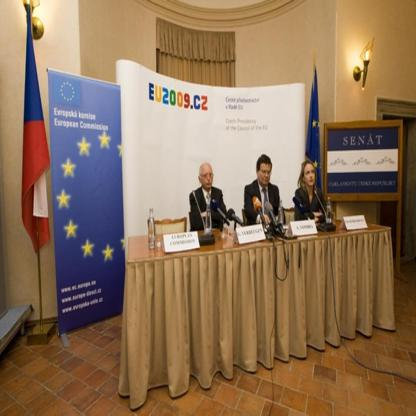face: (202, 166, 215, 189), (304, 164, 316, 186), (261, 164, 272, 185)
